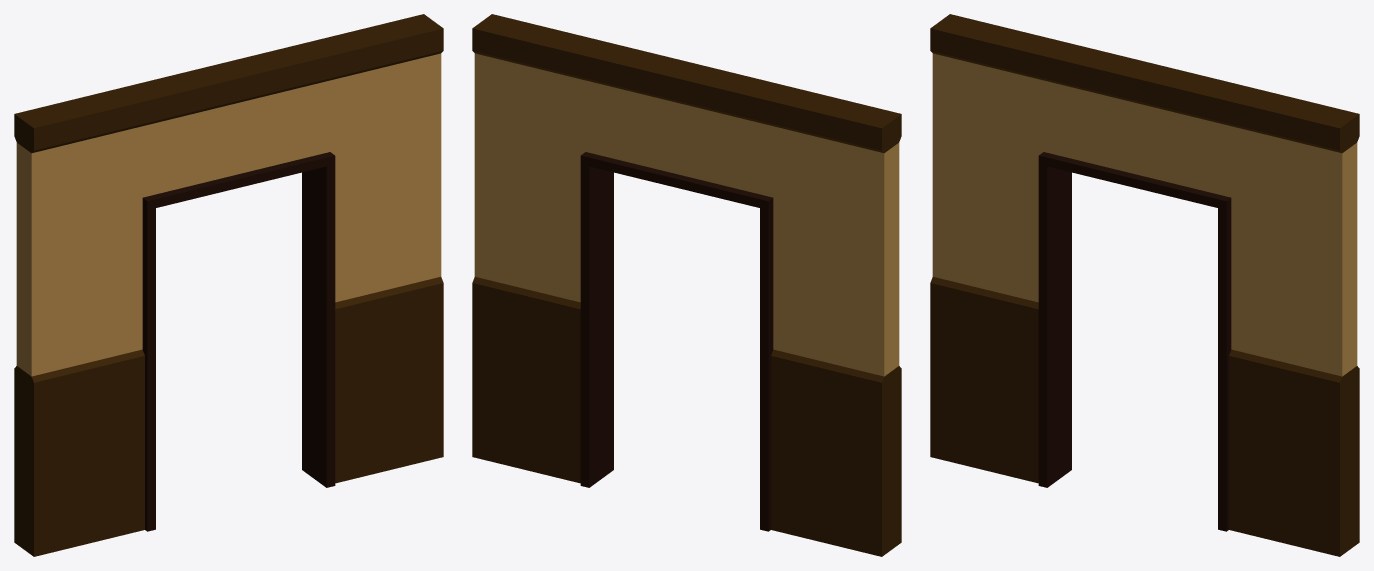
The model's file is Classic_WallDoorFrame_02_snaps001.fbx.
3 views of the same model, side by side, from view 1: azimuth 30°, elevation 25°; view 2: azimuth 150°, elevation 25°; view 3: azimuth 330°, elevation 25° (orthographic).
Parts seen in each view (by area): view 1: Classic_WallDoorFrame_02_snaps001; view 2: Classic_WallDoorFrame_02_snaps001; view 3: Classic_WallDoorFrame_02_snaps001.
Part boxes in pixels (x1=…): Classic_WallDoorFrame_02_snaps001: x1=14, y1=14, x2=443, y2=556; Classic_WallDoorFrame_02_snaps001: x1=472, y1=14, x2=901, y2=556; Classic_WallDoorFrame_02_snaps001: x1=930, y1=14, x2=1359, y2=556.
Size of the model in its own units: 300 by 300 by 31.25.
